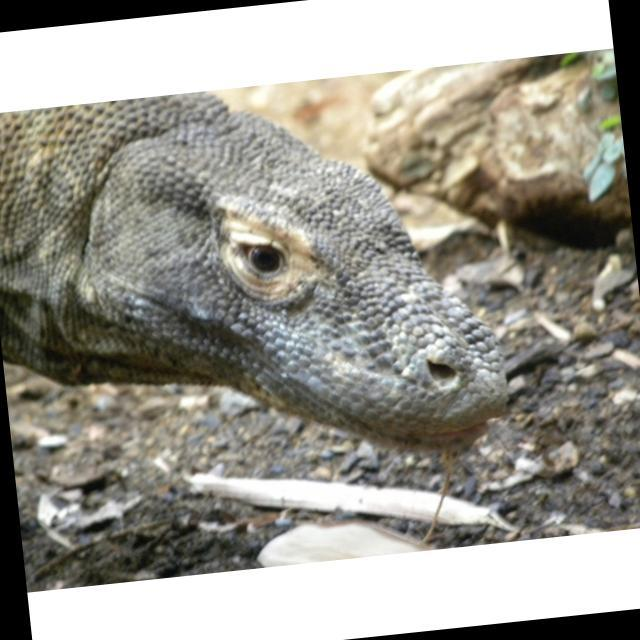KomodoDragon: (0, 62, 518, 503)
